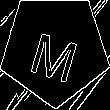M_N: (27, 18, 83, 81)
